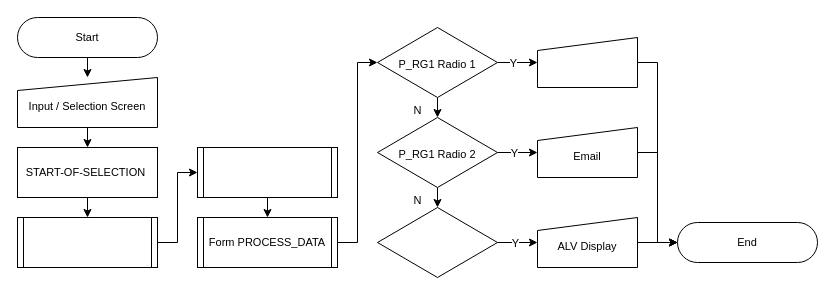
Image size: 835x295. Some labels were removed from this diagram. The centre of each missing label's shape, as x and y in pixels:
Excel: pixel 587 62
Form GET_DATA: pixel 267 172
Form INIT_DATA: pixel 87 242
P_RG1 Radio 3: pixel 437 242
